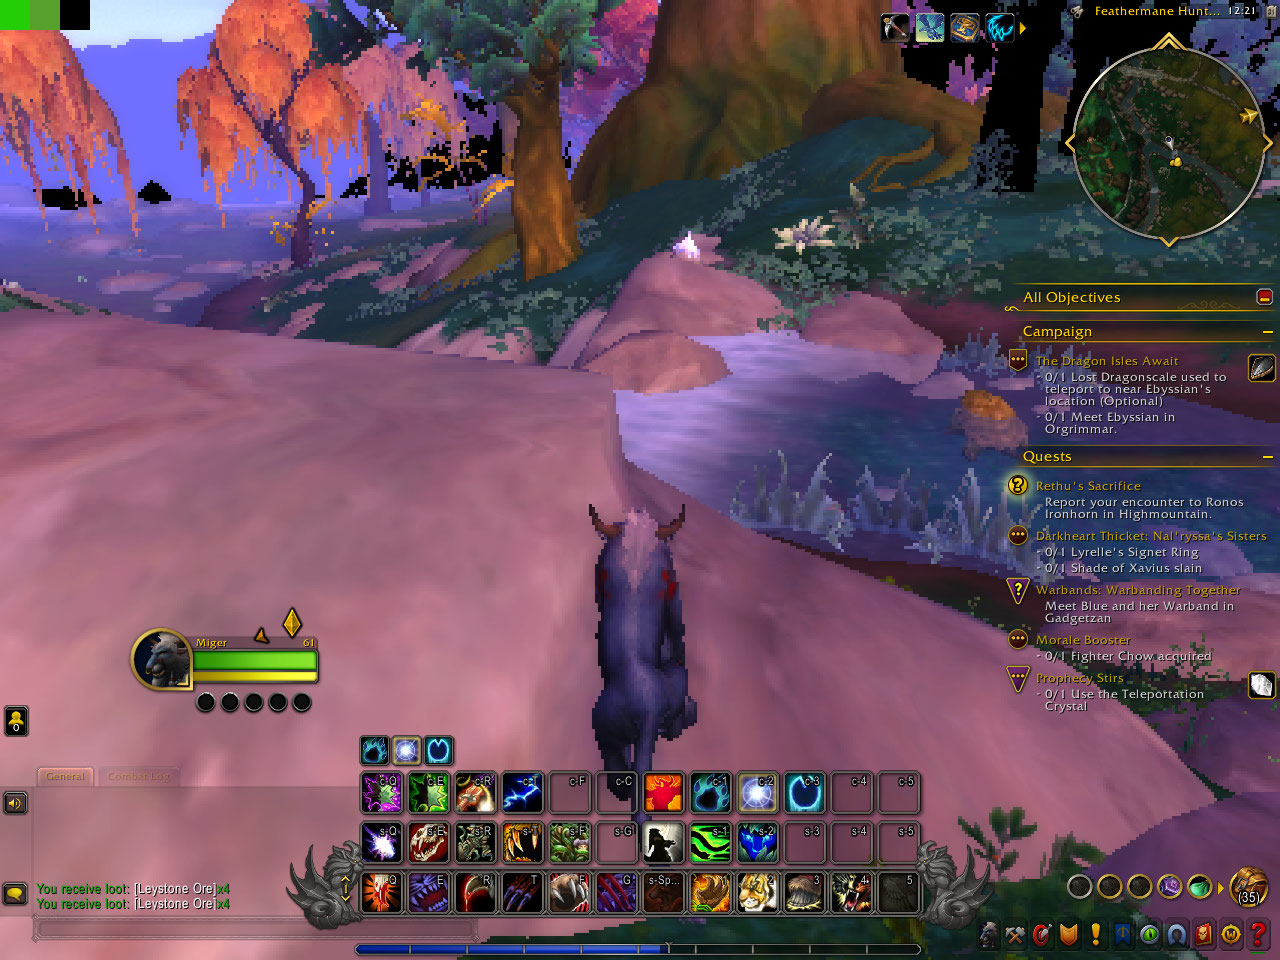ore: (668, 230, 703, 264)
